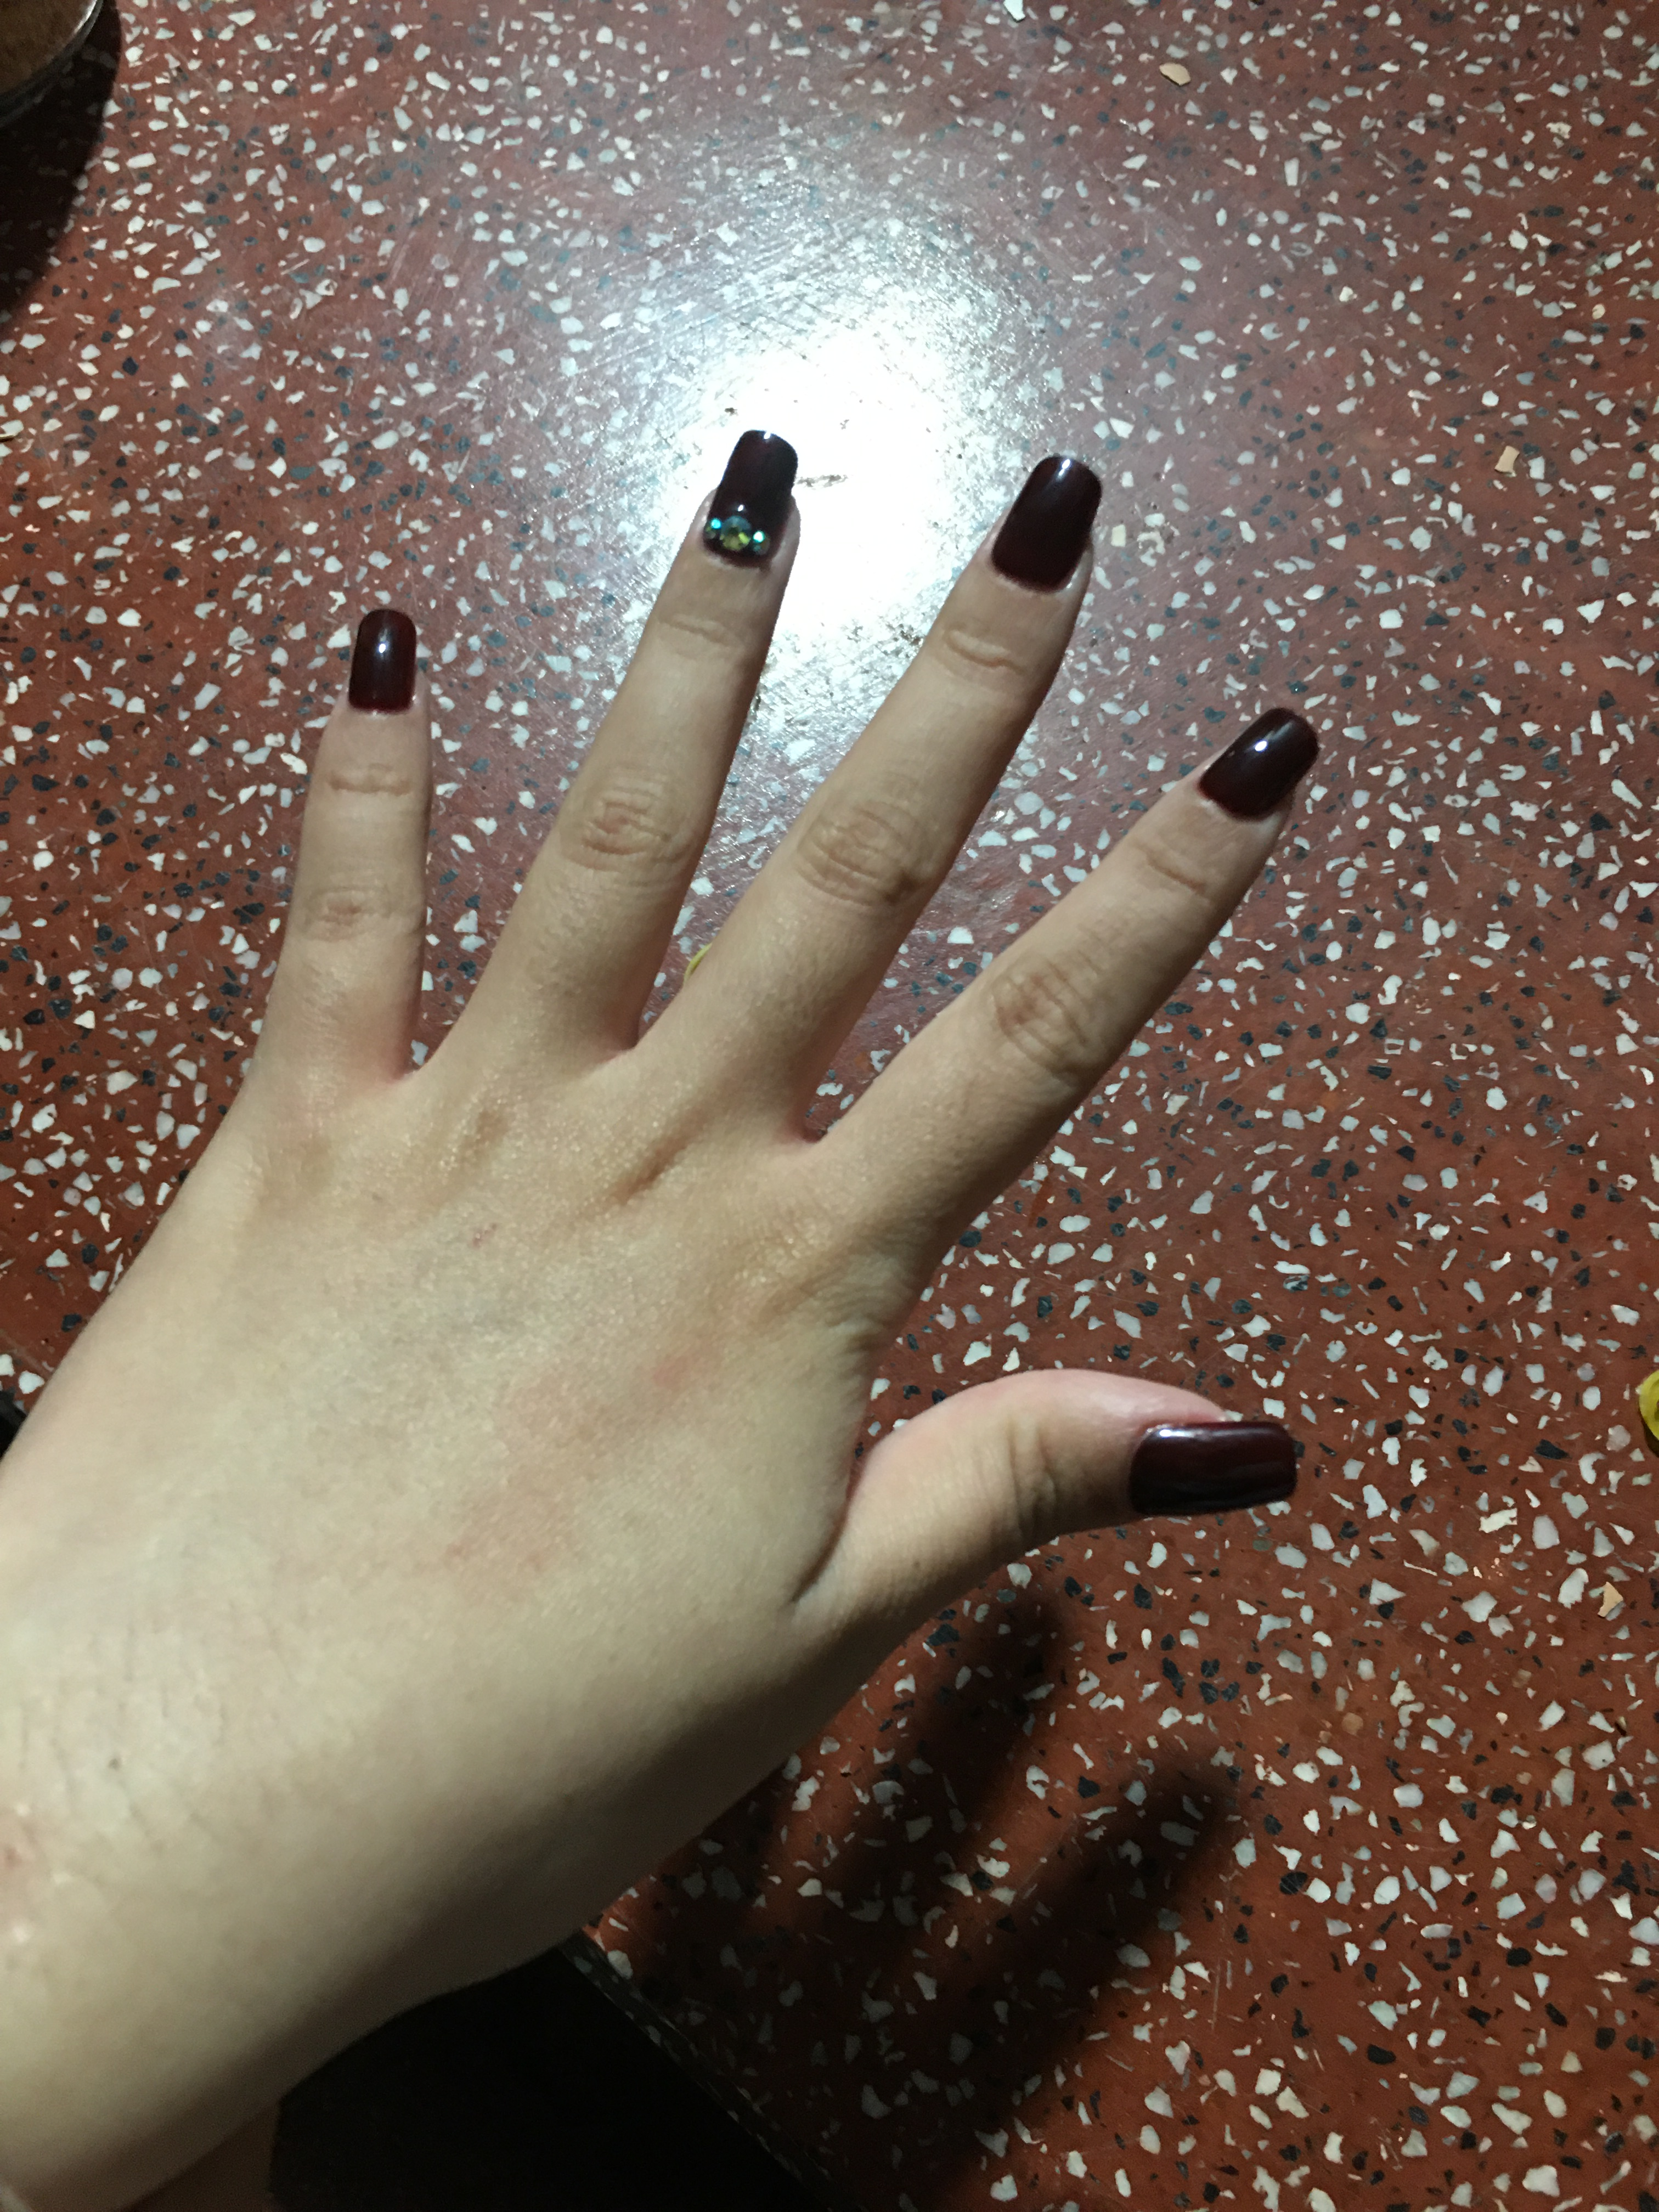nails: (979, 439, 1121, 604), (1134, 1399, 1314, 1519), (1190, 695, 1333, 838), (701, 418, 812, 571), (331, 597, 430, 721)
